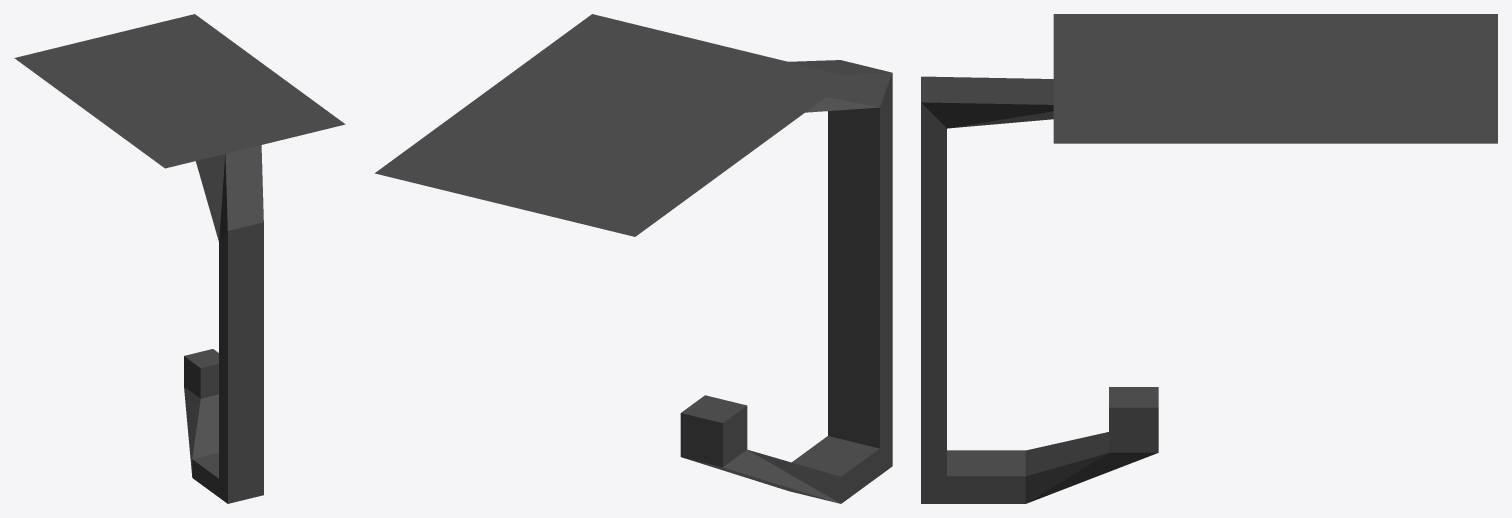
The model's file is shoulder3.obj.
3 renders of one model, left to right at view 1: azimuth 30°, elevation 25°; view 2: azimuth 150°, elevation 25°; view 3: azimuth 270°, elevation 25°, orthographic. The views are drawn at different scales.
Parts seen in each view (by area): view 1: Shoulder3; view 2: Shoulder3; view 3: Shoulder3.
Part boxes in pixels (x1,y1,x2,y2): Shoulder3: (14,14,345,503); Shoulder3: (375,14,892,503); Shoulder3: (921,14,1497,503).
Size of the model in its own units: 3.07 by 4.97 by 5.76.
Materials: 1 (1 with a texture image).
